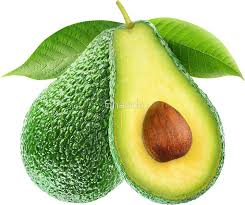aguacate: (16, 15, 236, 205)
